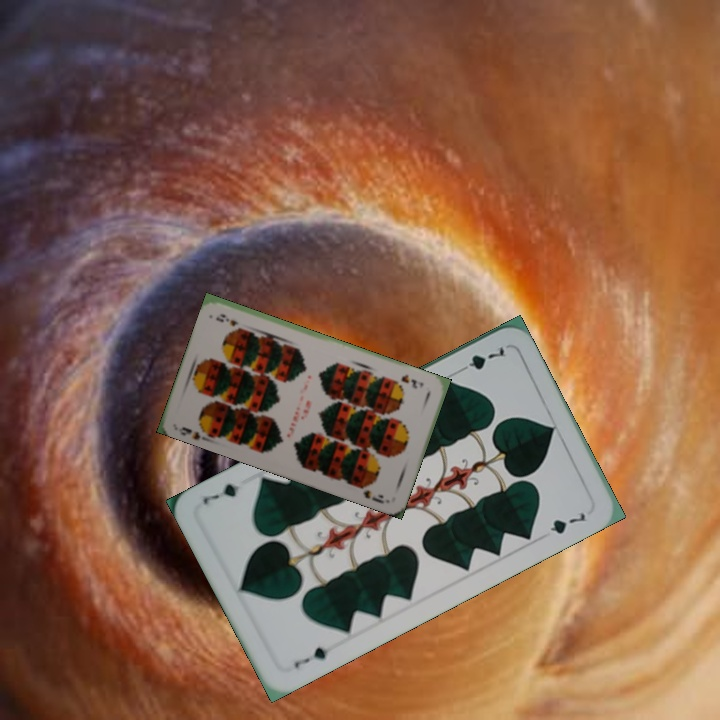G7: (453, 342, 508, 376), (290, 643, 331, 671)
S9: (175, 421, 213, 444), (397, 370, 426, 391)
